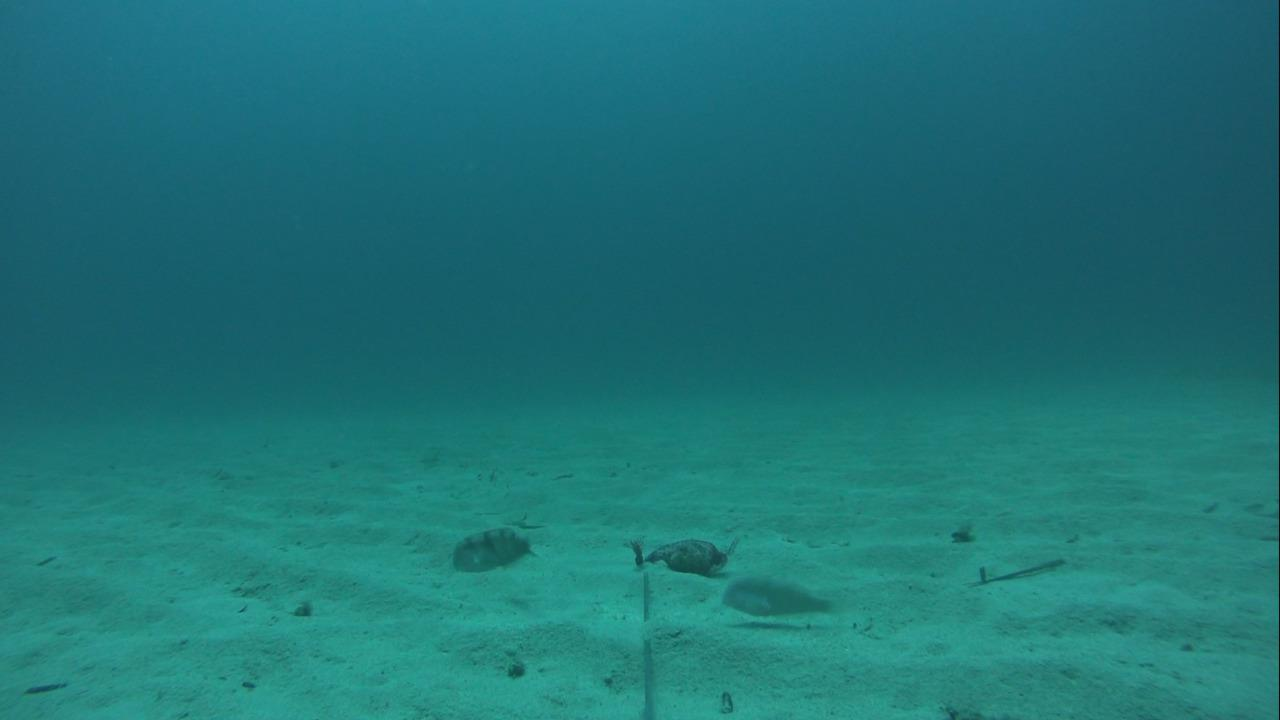raor: (716, 576, 839, 624), (449, 523, 539, 573)
